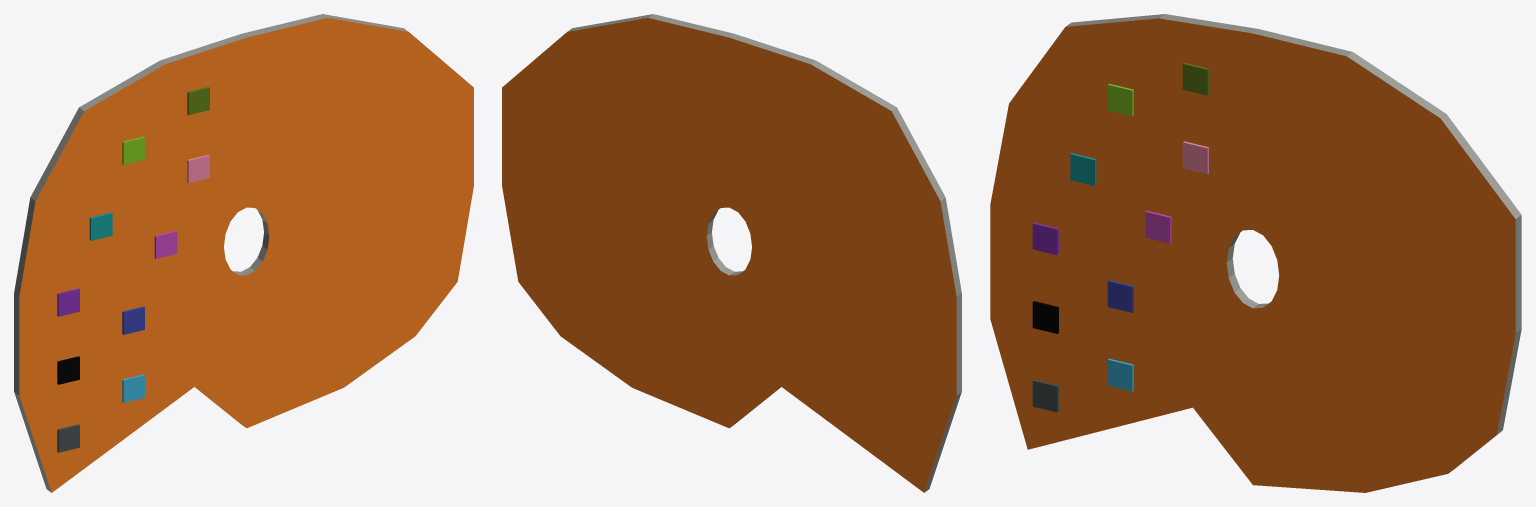
Rendered from item_palette10.obj.
The picture shows the model from 3 angles, left to right: view 1: azimuth 30°, elevation 25°; view 2: azimuth 150°, elevation 25°; view 3: azimuth 330°, elevation 25°; orthographic projection. The views are drawn at different scales.
Parts seen in each view (by area): view 1: wooden_palette_with_open_thumb_hole_and_grip_notch, native_cumulative_paint_state; view 2: wooden_palette_with_open_thumb_hole_and_grip_notch; view 3: wooden_palette_with_open_thumb_hole_and_grip_notch, native_cumulative_paint_state.
Boxes of the visible parts, x1,y1,x2,y2 form: wooden_palette_with_open_thumb_hole_and_grip_notch: [14, 14, 473, 492]; native_cumulative_paint_state: [57, 86, 209, 452]; wooden_palette_with_open_thumb_hole_and_grip_notch: [502, 14, 961, 492]; wooden_palette_with_open_thumb_hole_and_grip_notch: [990, 14, 1521, 492]; native_cumulative_paint_state: [1032, 62, 1208, 412].
Bounding box in the file's own units: 0.875 × 0.75 × 0.0219.
